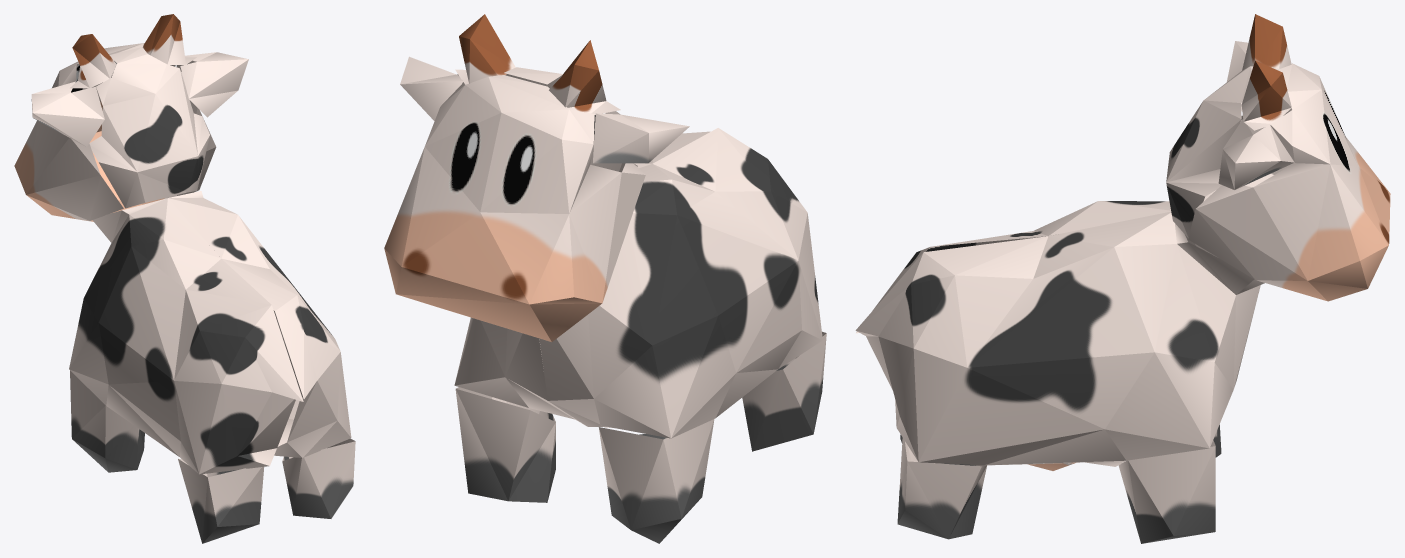
The model's file is spot_collapse.obj.
3 views of the same model, side by side, from view 1: azimuth 30°, elevation 25°; view 2: azimuth 150°, elevation 25°; view 3: azimuth 270°, elevation 25° (orthographic). The views are drawn at different scales.
Parts seen in each view (by area): view 1: spot_triangulated_mod; view 2: spot_triangulated_mod; view 3: spot_triangulated_mod.
Boxes of the visible parts, <box> form: spot_triangulated_mod: <box>14,14,355,543</box>; spot_triangulated_mod: <box>384,14,826,543</box>; spot_triangulated_mod: <box>855,14,1390,543</box>.
Size of the model in its own units: 0.9456 by 1.71 by 1.73.
Materials: 1 (1 with a texture image).
